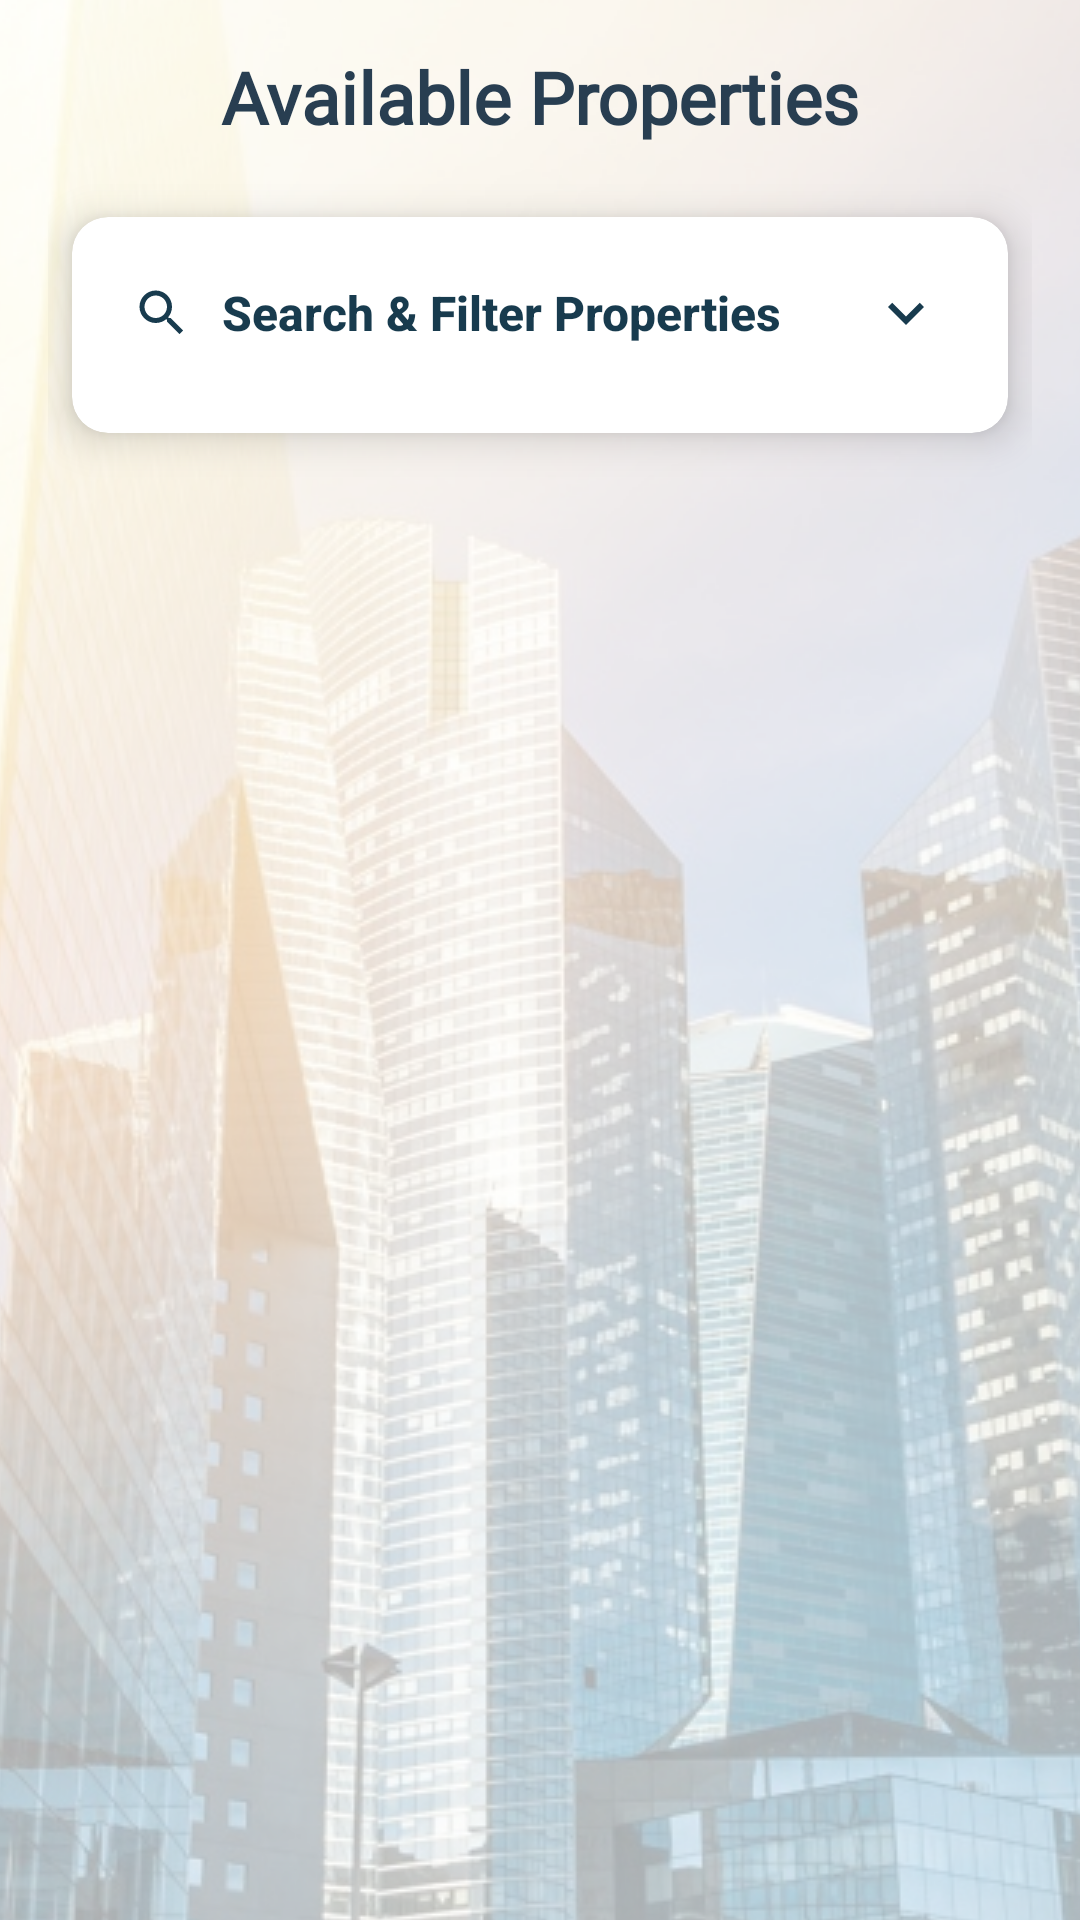

Where to tap for icons on this 1080*1920 app screen, as point (x, y):
search beautiful: point (161, 312)
Toggle search panel: point (906, 314)
